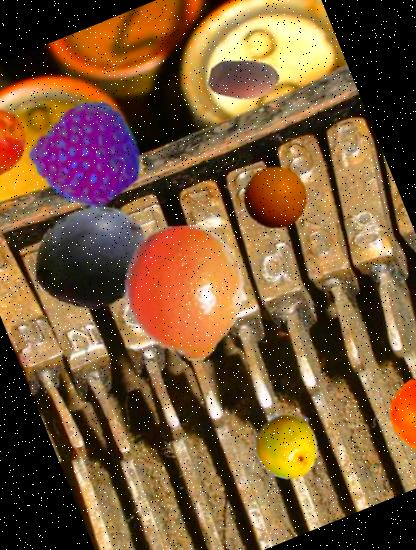Apricot: (0, 92, 41, 195)
Grapefruit: (378, 362, 416, 466)
Hazelnut: (199, 32, 291, 124)
Maracuja: (244, 402, 330, 488)
Orange: (232, 154, 316, 239)
Plum: (14, 181, 169, 336)
Raspberry: (20, 87, 158, 224)
Tangelo: (96, 204, 272, 381)
